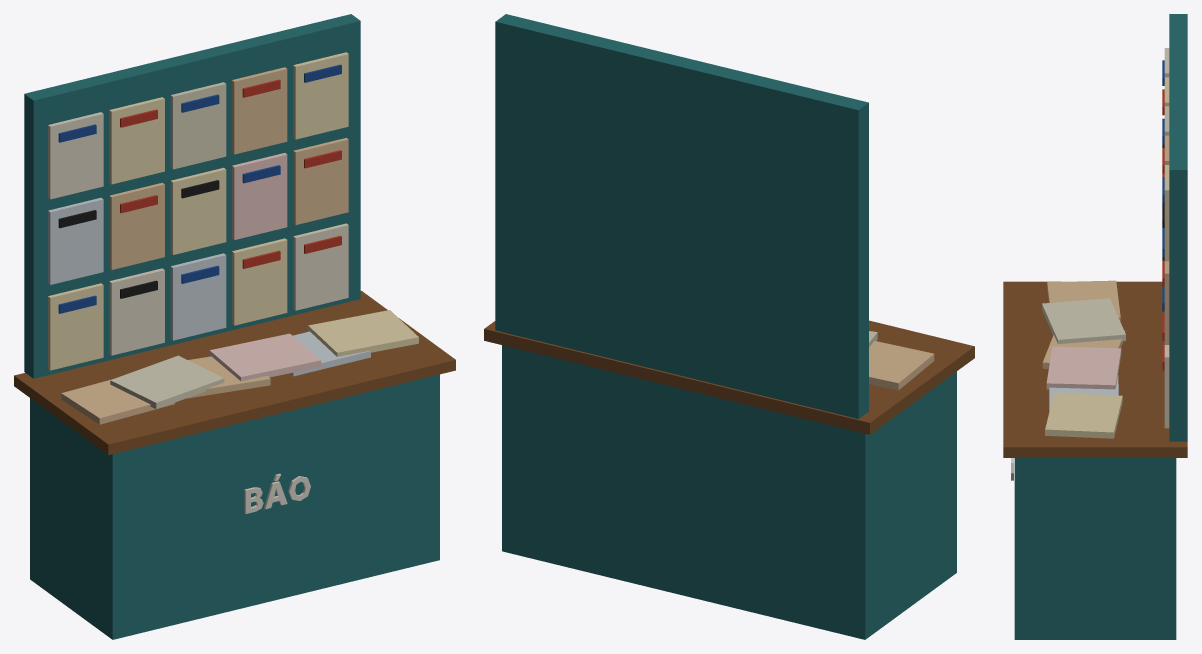
The model's file is sap_bao.glb.
The picture shows the model from 3 angles, left to right: view 1: azimuth 30°, elevation 25°; view 2: azimuth 150°, elevation 25°; view 3: azimuth 270°, elevation 25°; orthographic projection. The views are drawn at different scales.
Visible parts, largest first — view 1: sap_bao; view 2: sap_bao; view 3: sap_bao.
Part boxes in pixels (<box>): sap_bao: <box>14,14,455,639</box>; sap_bao: <box>484,14,974,639</box>; sap_bao: <box>1003,14,1187,639</box>.
Bounding box in the file's own units: 1.7 × 2.25 × 0.8.
